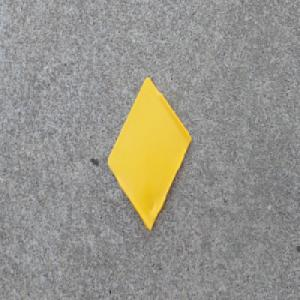PlasticPart: (106, 75, 192, 234)
